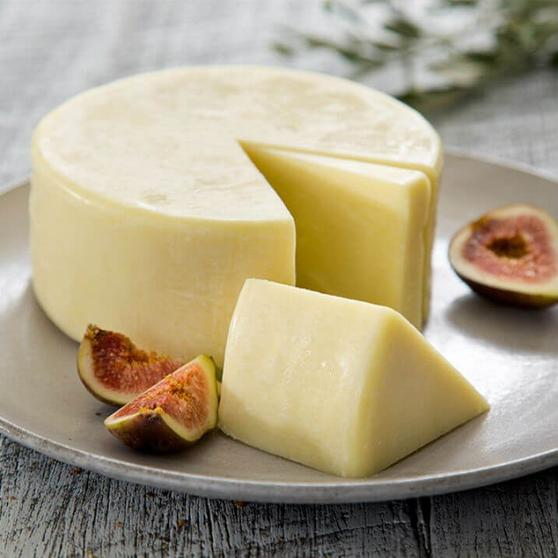cheese: (187, 269, 495, 472)
